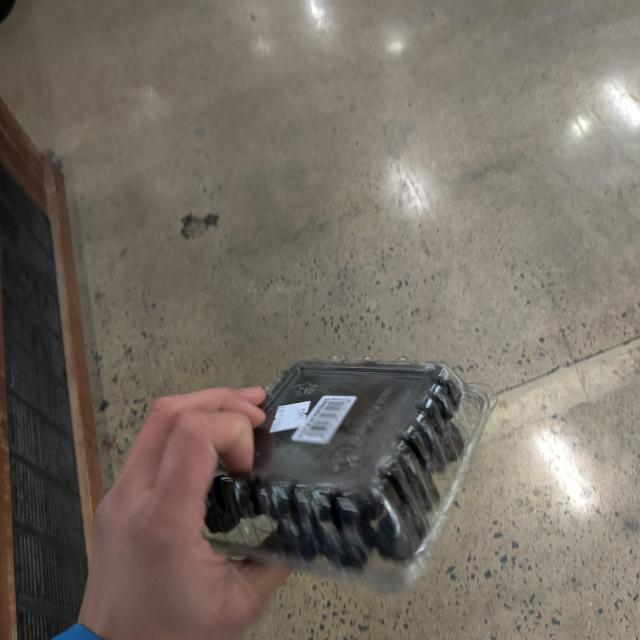Blackberries: (195, 357, 500, 598)
